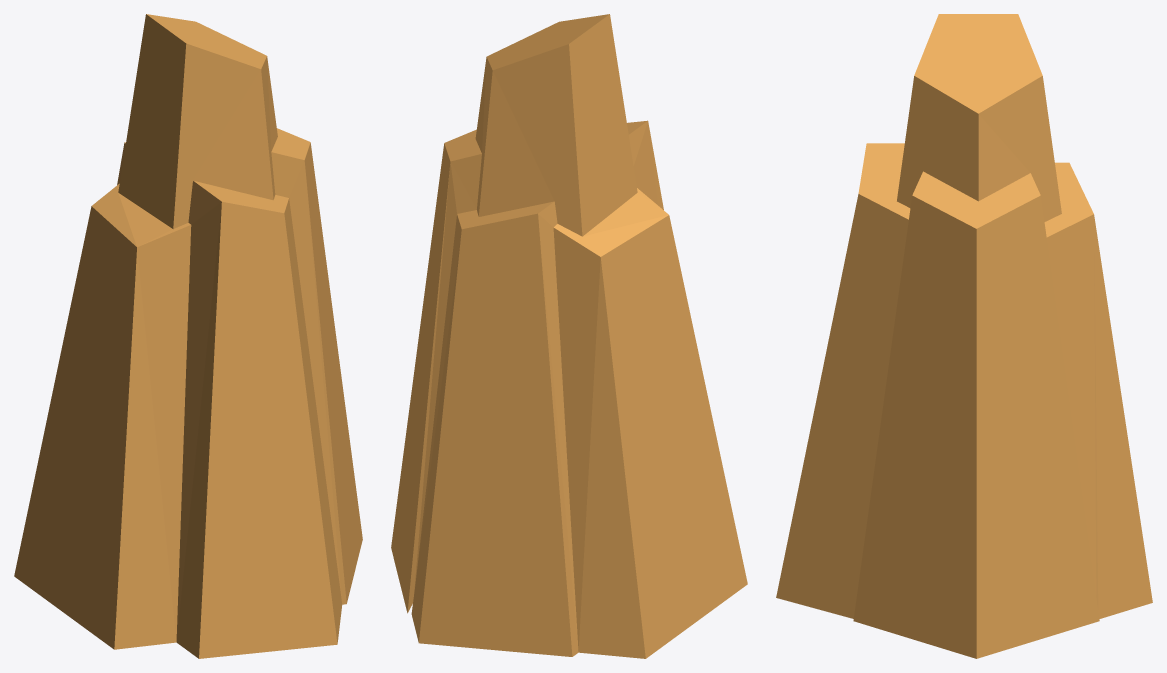
Rendered from Model_Desert_1x1D.fbx.
The picture shows the model from 3 angles, left to right: view 1: azimuth 30°, elevation 25°; view 2: azimuth 150°, elevation 25°; view 3: azimuth 270°, elevation 25°; orthographic projection. The views are drawn at different scales.
Visible parts, largest first — view 1: Model_Frost_1x1D; view 2: Model_Frost_1x1D; view 3: Model_Frost_1x1D.
Part boxes in pixels (bbox=[...]): Model_Frost_1x1D: bbox=[14, 14, 362, 658]; Model_Frost_1x1D: bbox=[391, 14, 747, 658]; Model_Frost_1x1D: bbox=[776, 14, 1152, 658].
Size of the model in its own units: 178 by 317 by 197.
Materials: 1 (1 with a texture image).
